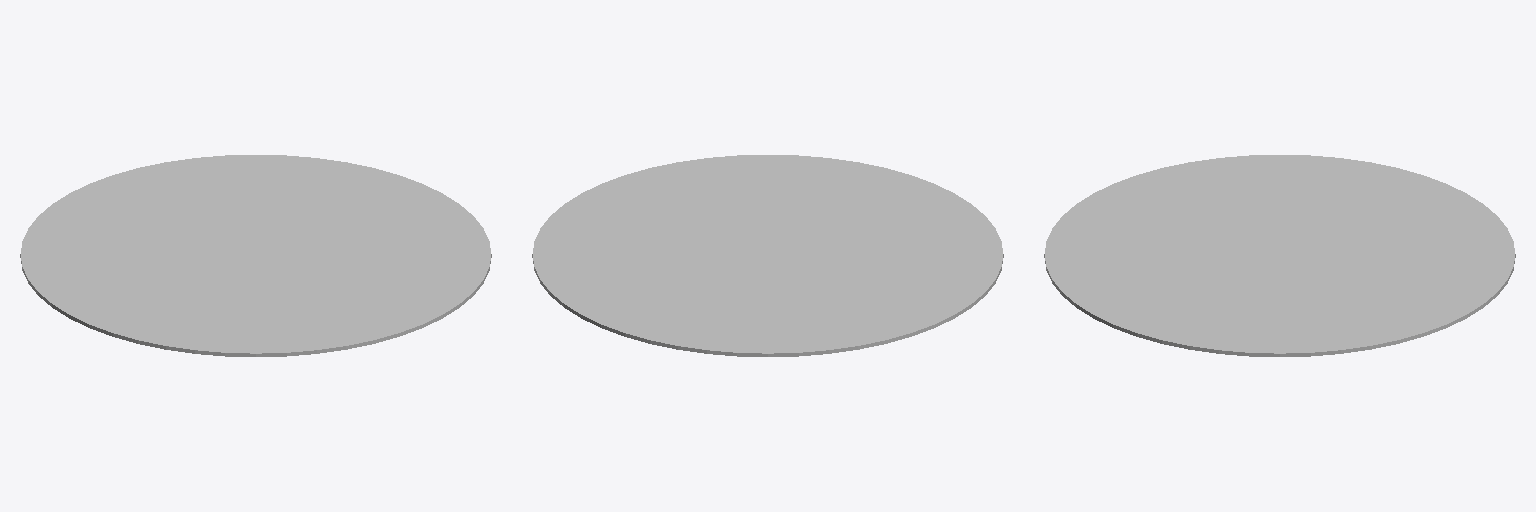
Rendered from SpaceStationWindowBottom.obj.
3 renders of one model, left to right at view 1: azimuth 30°, elevation 25°; view 2: azimuth 150°, elevation 25°; view 3: azimuth 270°, elevation 25°, orthographic.
Parts seen in each view (by area): view 1: Torus.002_Torus.004; view 2: Torus.002_Torus.004; view 3: Torus.002_Torus.004.
Boxes of the visible parts, box(x1,y1,x2,y2) form: Torus.002_Torus.004: box(20, 155, 491, 356); Torus.002_Torus.004: box(532, 155, 1003, 356); Torus.002_Torus.004: box(1044, 155, 1515, 356).
Bounding box in the file's own units: 2.35 × 0.0204 × 2.35.